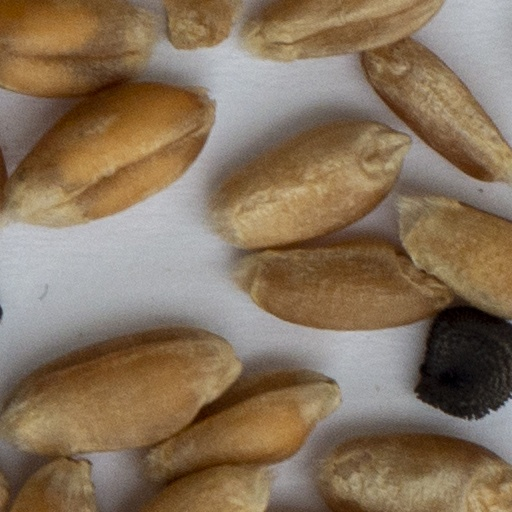Agrostemma-poly: (419, 307, 511, 417)
Wheat-grain-damaged-poly: (165, 0, 239, 49)
